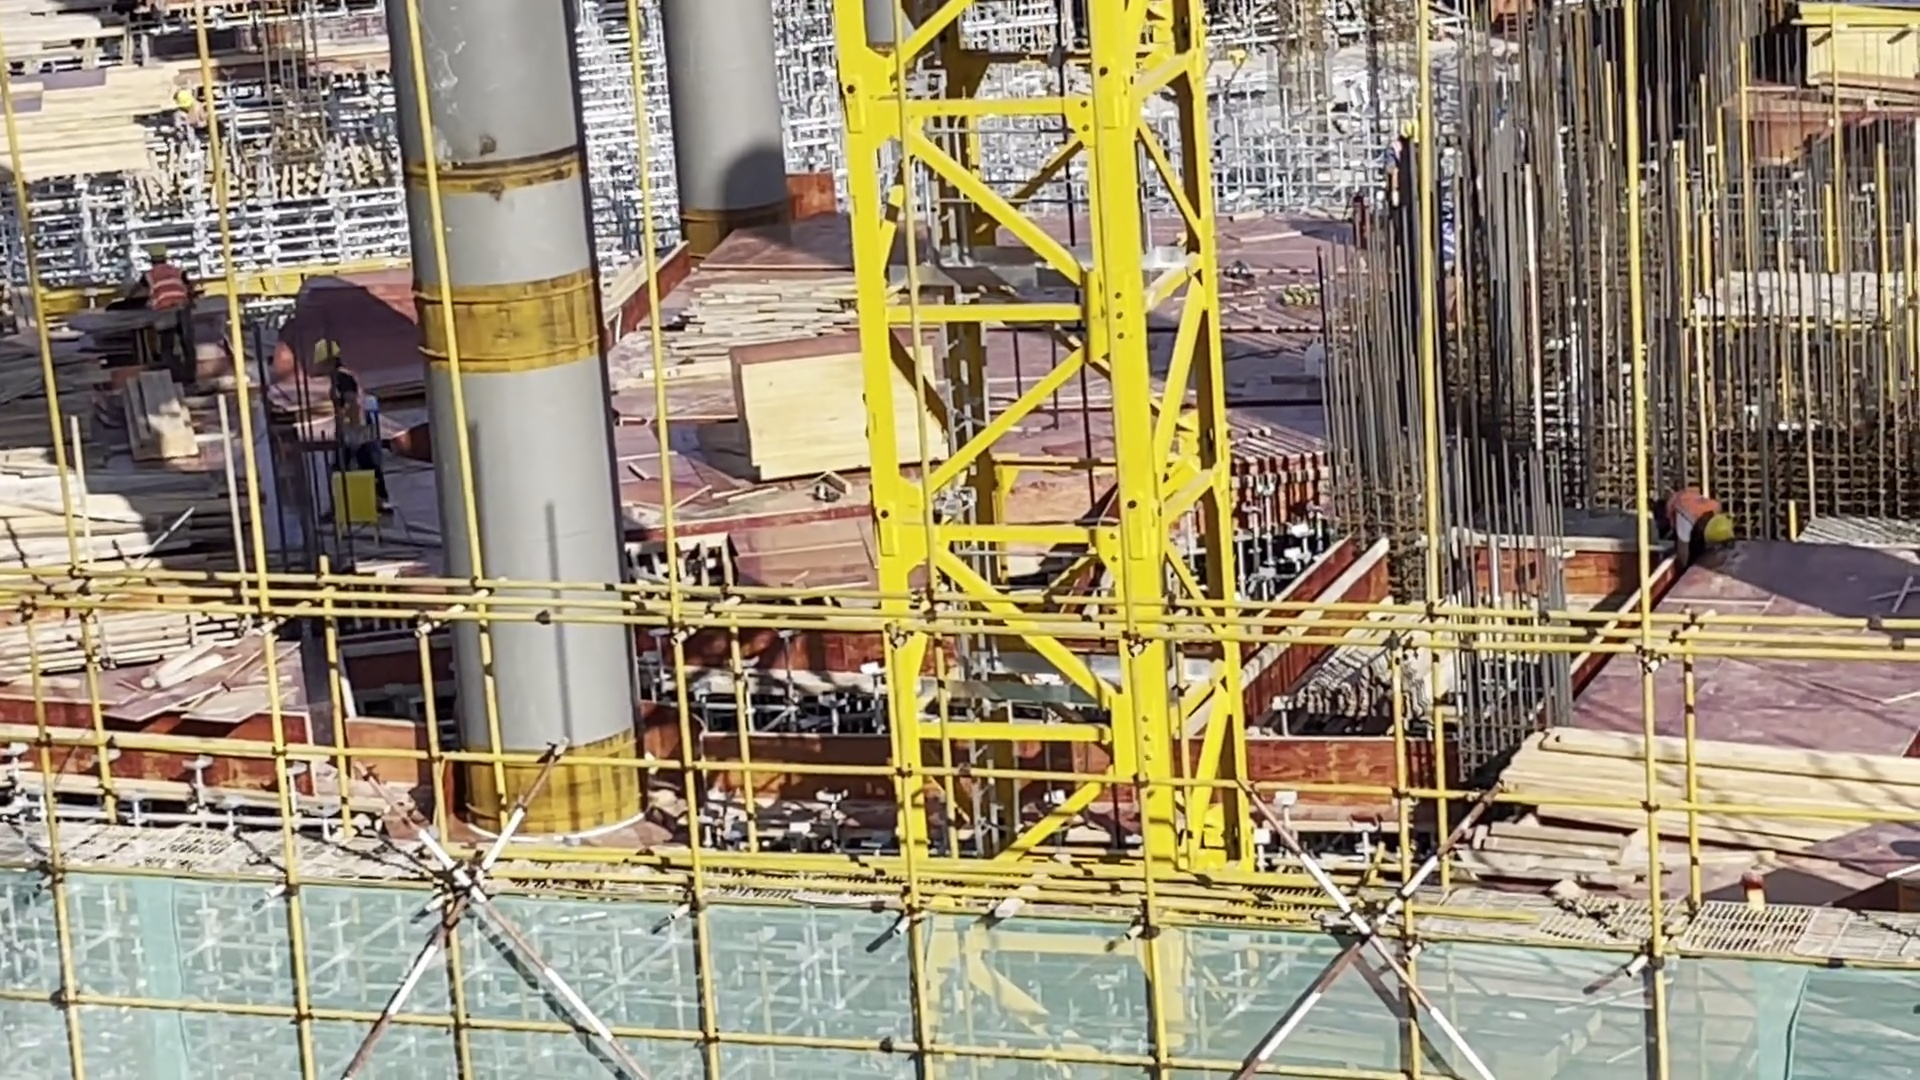board: (718, 340, 952, 476), (1794, 4, 1920, 103)
helmet: (1706, 506, 1735, 551), (315, 338, 341, 369), (174, 86, 195, 112), (145, 244, 167, 264)
person: (305, 336, 394, 530), (1637, 470, 1752, 583), (125, 241, 211, 393)
vest: (141, 263, 190, 325), (1666, 486, 1718, 534)
wood: (1483, 716, 1920, 866), (5, 455, 240, 582), (127, 373, 197, 469)
